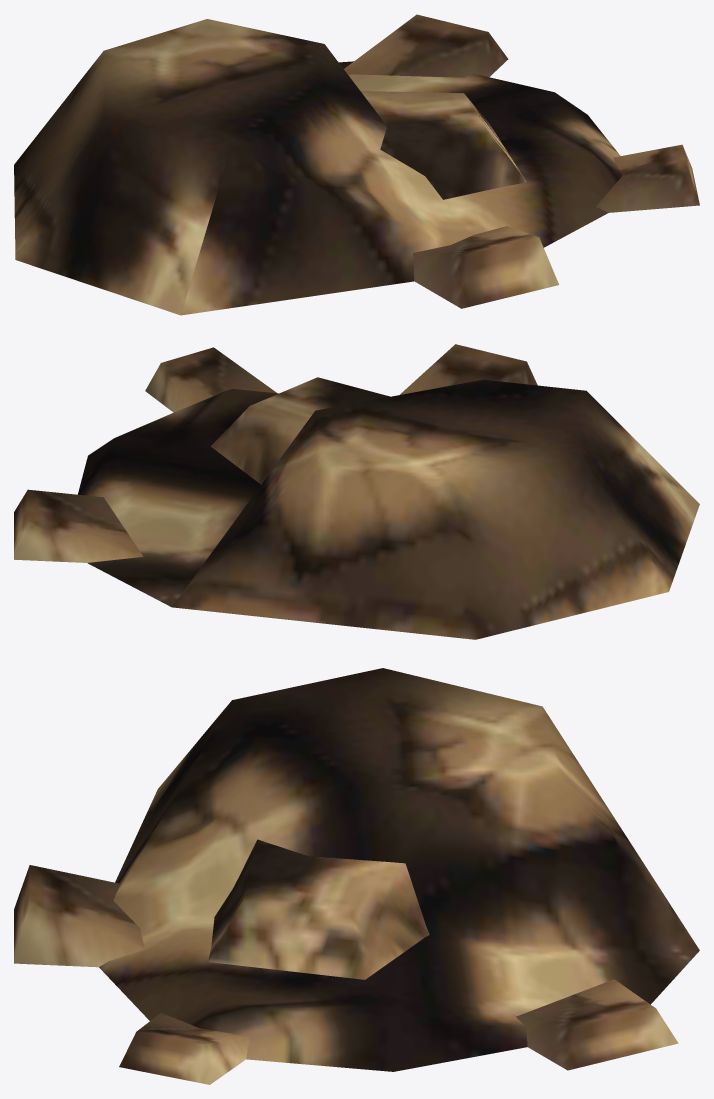
The model's file is dec_red_stone_02_37165.glb.
3 renders of one model, top to bottom at view 1: azimuth 30°, elevation 25°; view 2: azimuth 150°, elevation 25°; view 3: azimuth 270°, elevation 25°, orthographic. The views are drawn at different scales.
Visible parts, largest first — view 1: red_stone_02_mesh; view 2: red_stone_02_mesh; view 3: red_stone_02_mesh.
Boxes of the visible parts, bbox=[...] form: red_stone_02_mesh: bbox=[14, 14, 699, 315]; red_stone_02_mesh: bbox=[14, 344, 699, 639]; red_stone_02_mesh: bbox=[14, 668, 699, 1084].
Bounding box in the file's own units: 1.55 × 0.2905 × 1.35.
1 material, 1 textured.
